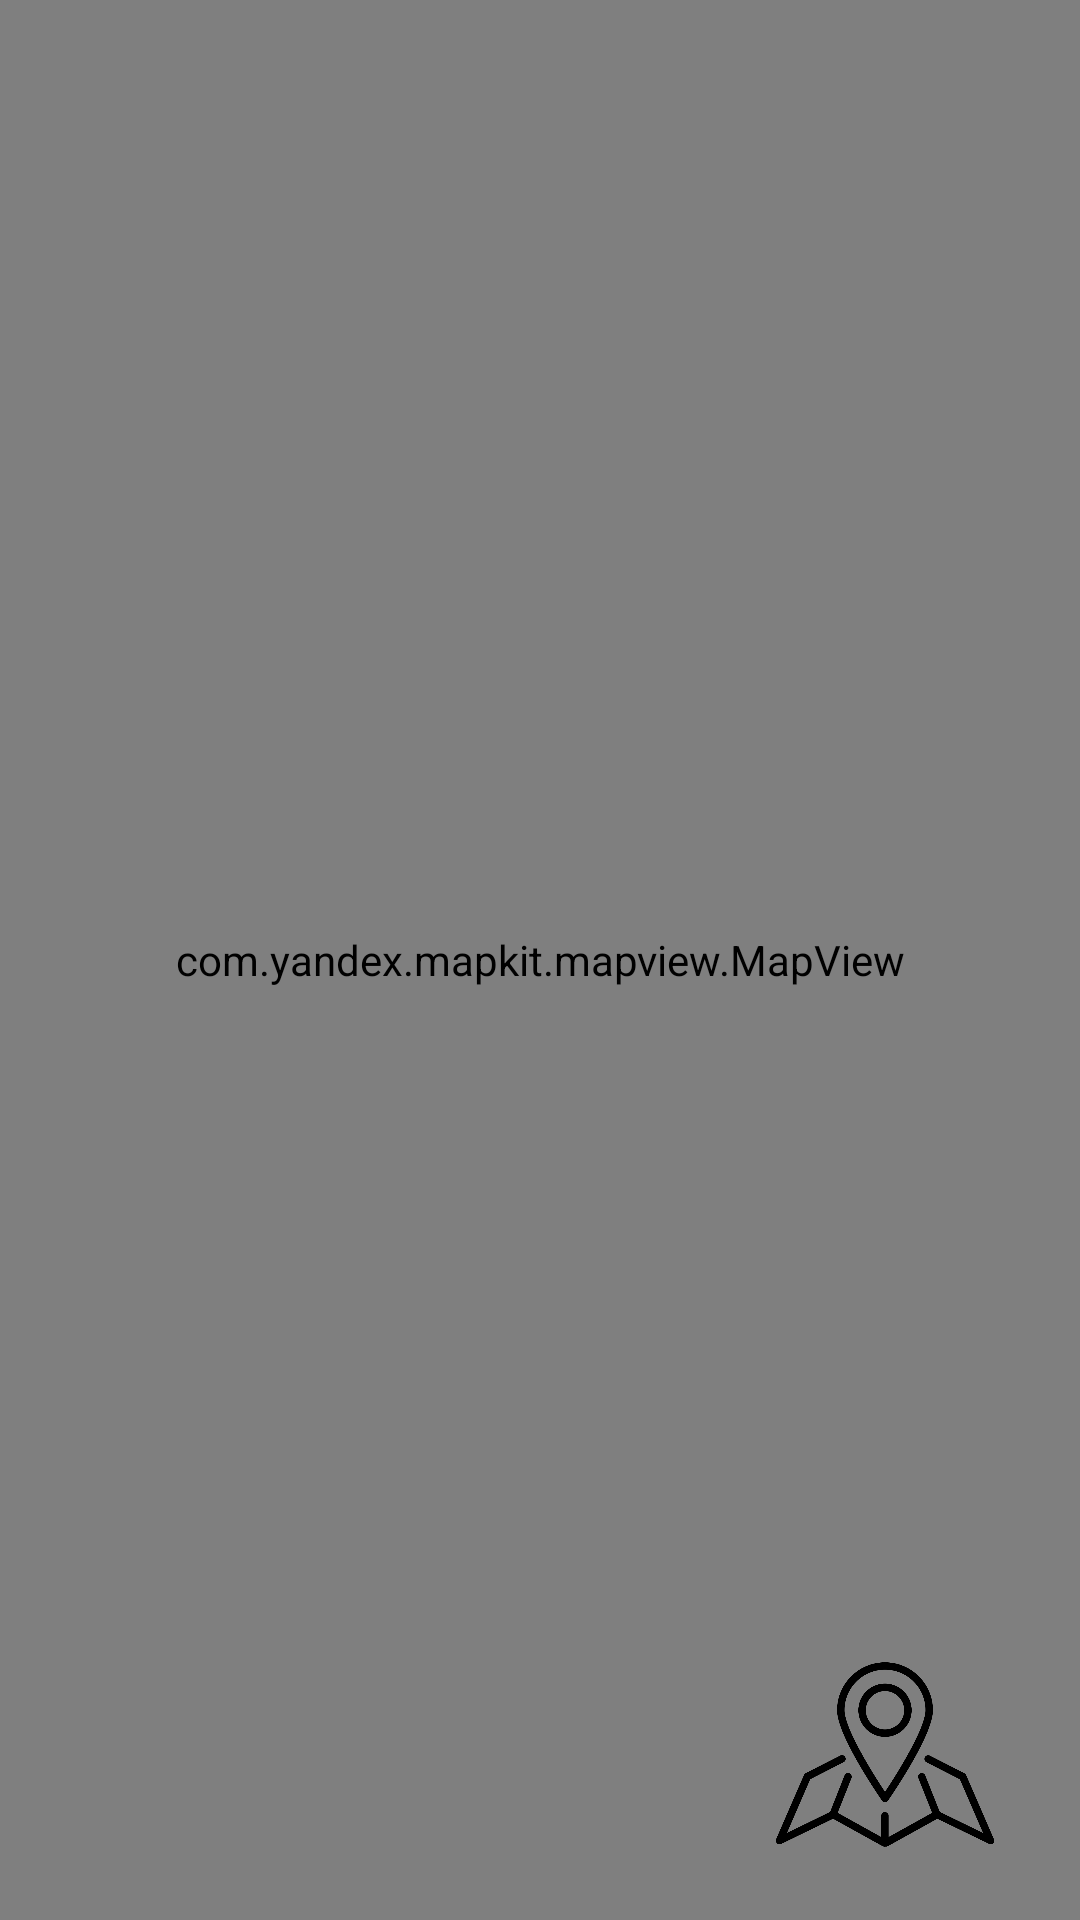

Where to tap for icons on this 1080px×1920px app screen, as point (x, y):
map: point (885, 1754)
